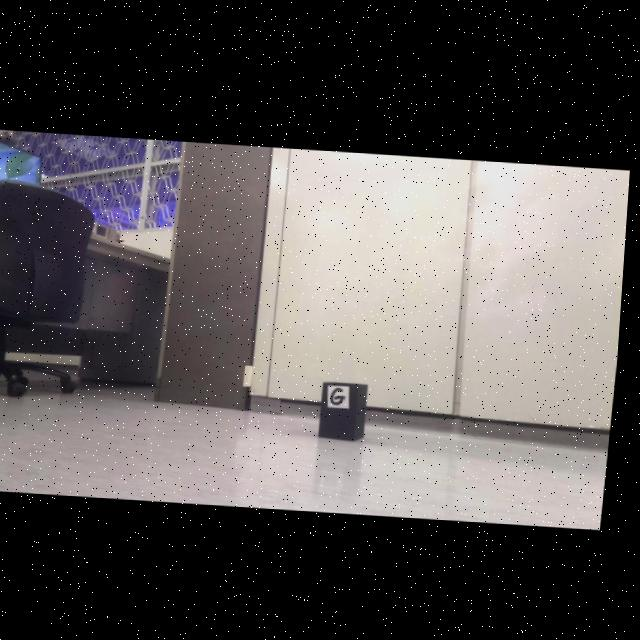G: (336, 385, 350, 402)
